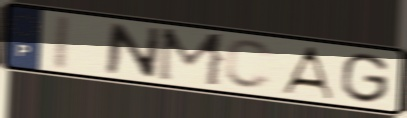A: (277, 45, 336, 102)
C: (221, 38, 277, 92)
G: (338, 51, 392, 106)
I: (49, 12, 74, 73)
M: (155, 26, 229, 90)
N: (102, 21, 164, 81)
